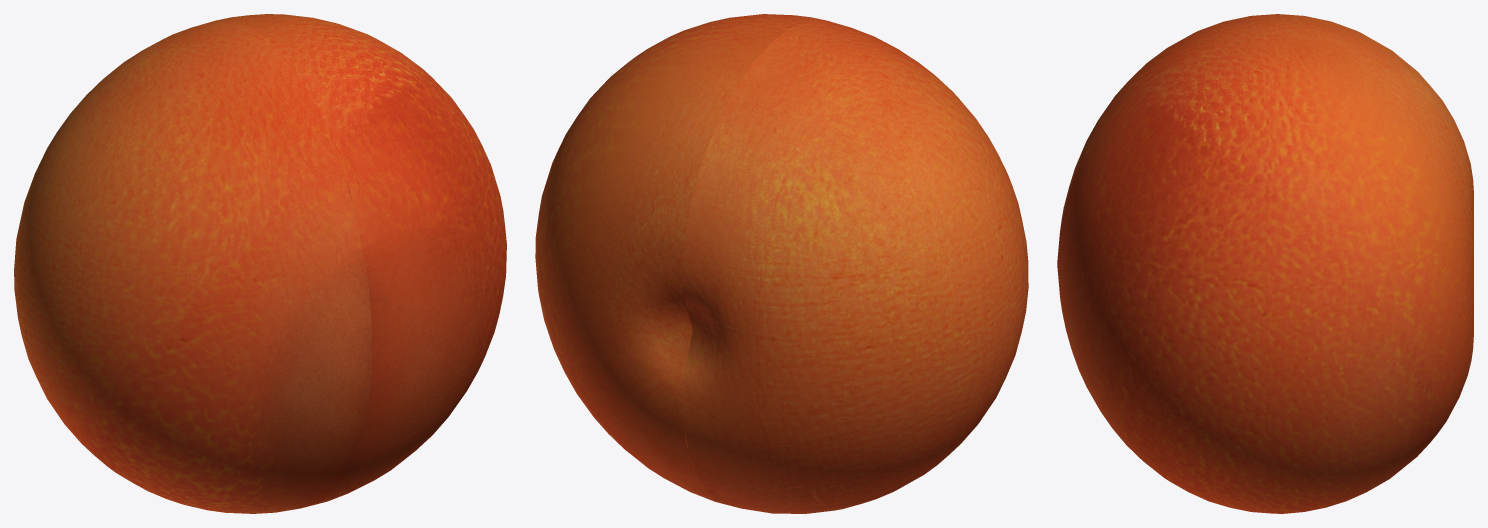
The picture shows the model from 3 angles, left to right: view 1: azimuth 30°, elevation 25°; view 2: azimuth 150°, elevation 25°; view 3: azimuth 270°, elevation 25°; orthographic projection.
Visible parts, largest first — view 1: Sphere.002_blood orange whole_0; view 2: Sphere.002_blood orange whole_0; view 3: Sphere.002_blood orange whole_0.
Part boxes in pixels (bbox=[...]): Sphere.002_blood orange whole_0: bbox=[14, 14, 506, 513]; Sphere.002_blood orange whole_0: bbox=[535, 14, 1028, 513]; Sphere.002_blood orange whole_0: bbox=[1057, 14, 1473, 513].
Bounding box in the file's own units: 0.06 × 0.05 × 0.0599.
Materials: 1 (1 with a texture image).
